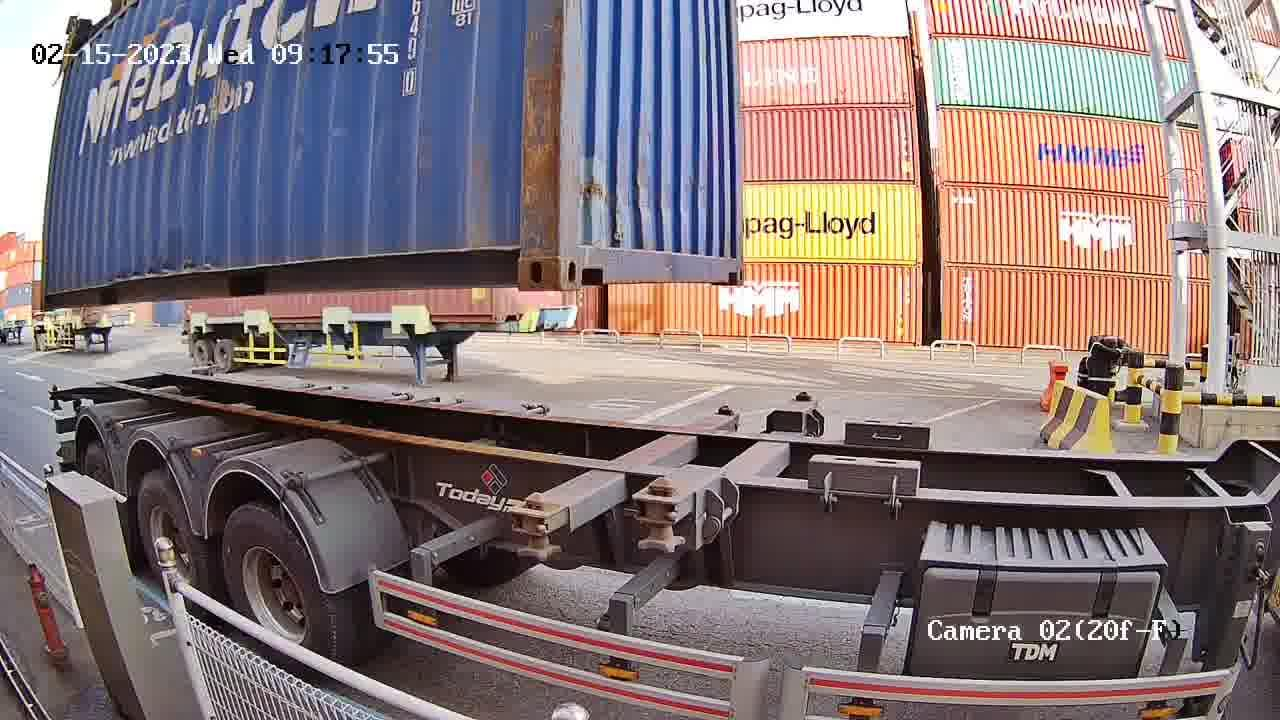Chassis: (546, 410, 738, 534)
Cone: (511, 488, 567, 559), (712, 401, 739, 423)
Hole_L: (562, 221, 617, 289)
Hole_R: (483, 217, 563, 291), (714, 233, 749, 283)
Tire: (217, 510, 328, 653), (136, 475, 207, 580), (84, 448, 113, 484)
